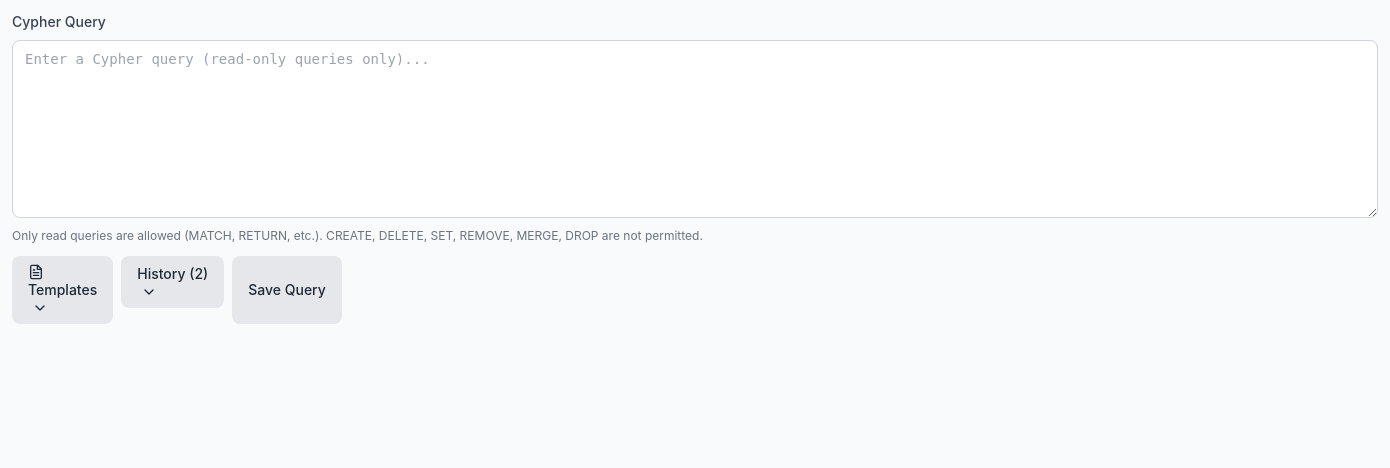
Test: QueryBuilder › query history › should show history dropdown when clicked
What coordinates should you click on to do the following:
click the button with aria-label "Show query history"
I would click on:
 (173, 282)
Its box is top-left (121, 256), bottom-right (224, 308).
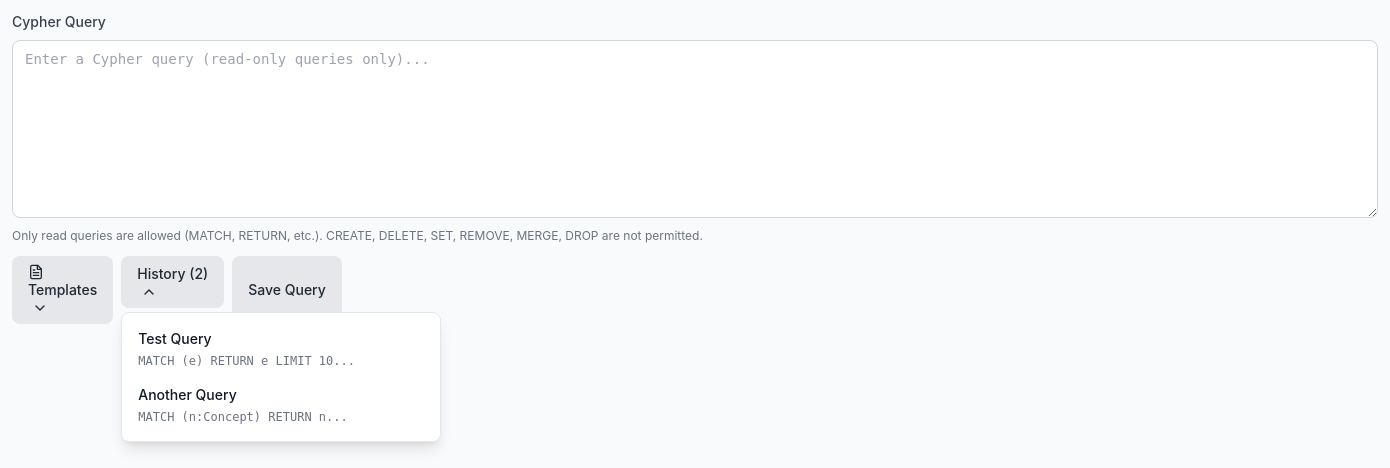
Check: the text "Test Query" is shown, box top-left (138, 330), bottom-right (212, 347)
Check: the text "Another Query" is shown, box top-left (138, 386), bottom-right (237, 403)
